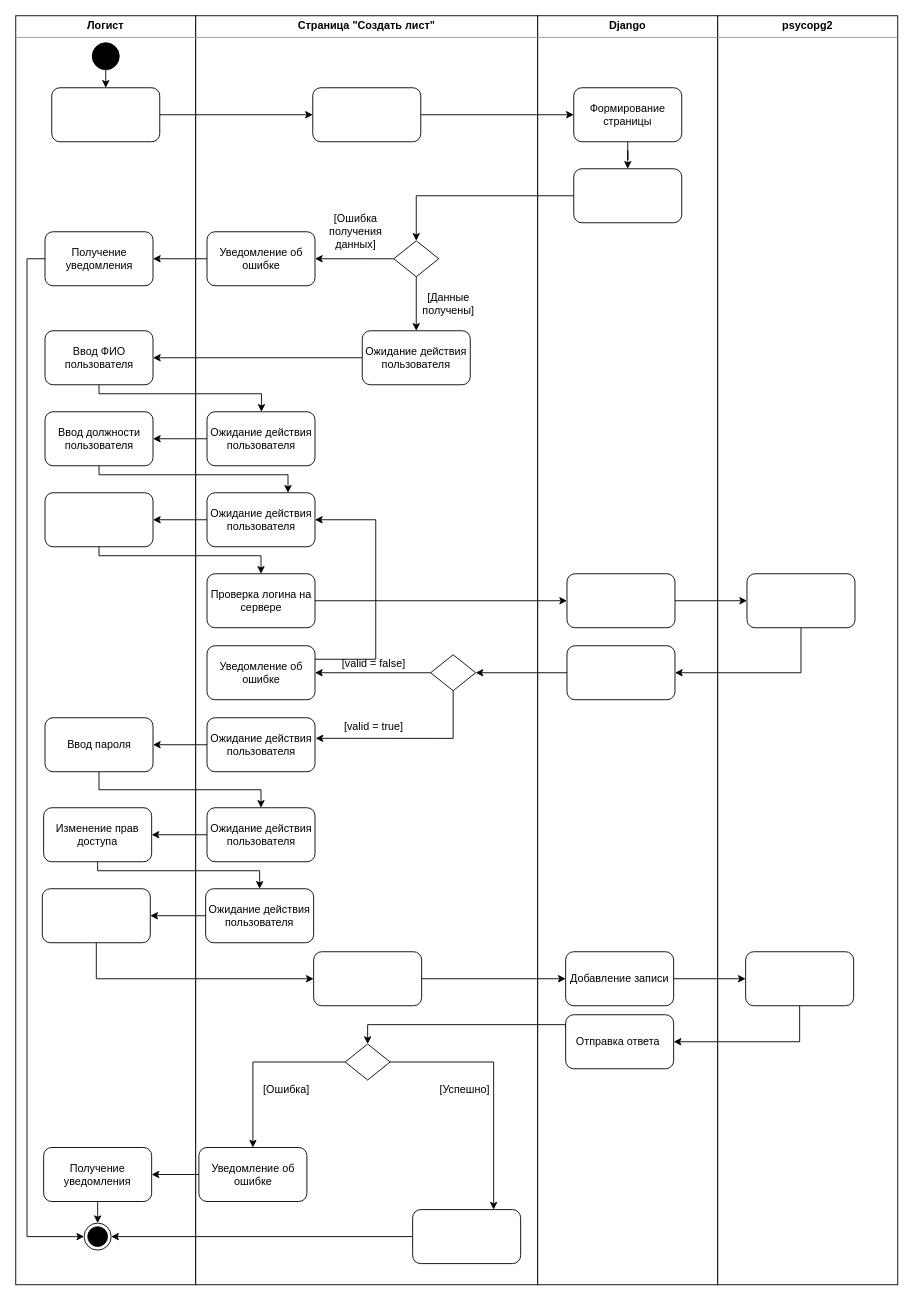
This 914x1301 diagram has some shape labels left out. The centre of each missing label's shape, as x and y in pixels:
Ввод логина пользователя: pixel 98 519
Выбор пункта меню "Создать лист": pixel 105 114
Выполнение запроса на выборку данных в БД: pixel 800 600
Выполнение запроса на создание записи в БД: pixel 799 978
Завершение регистрации: pixel 466 1236
Запрос на добавление записи: pixel 367 978
Запрос страницы у сервера: pixel 366 114
Нажатие кнопки "Создать": pixel 95 915
Отправка результата: pixel 620 672
Отправка страницы: pixel 627 195
Поиск логина в БД: pixel 620 600
